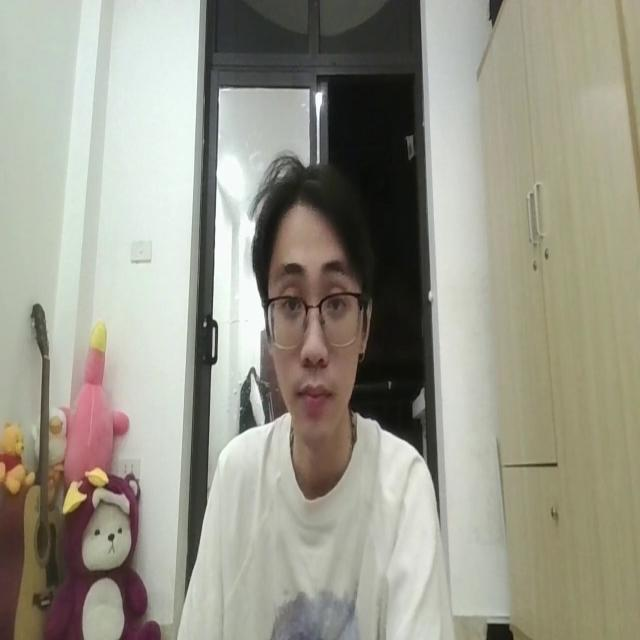student: (171, 155, 446, 640)
